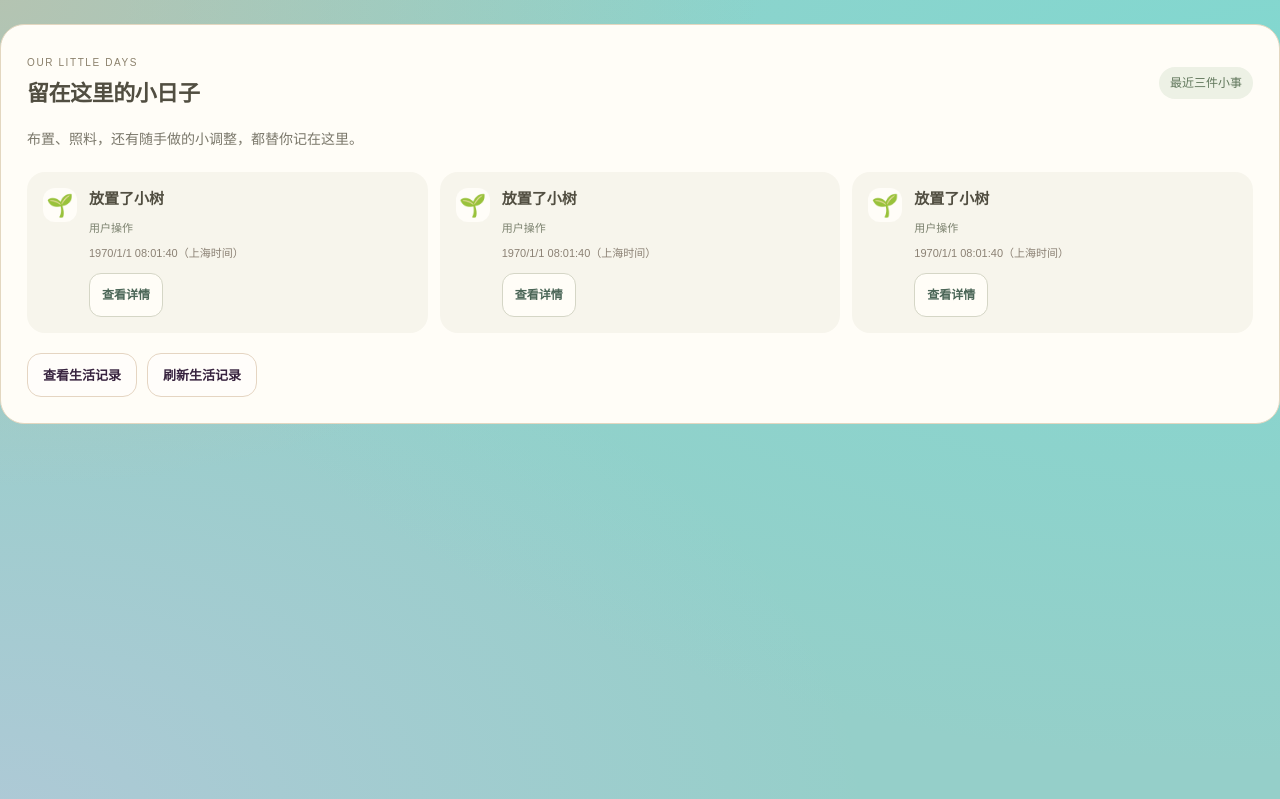
Test case: retains all loaded events and the cursor after a failed page, then retries once
Click the button "查看生活记录". click: (82, 376)
box: [27, 354, 137, 398]
(page scrolled)
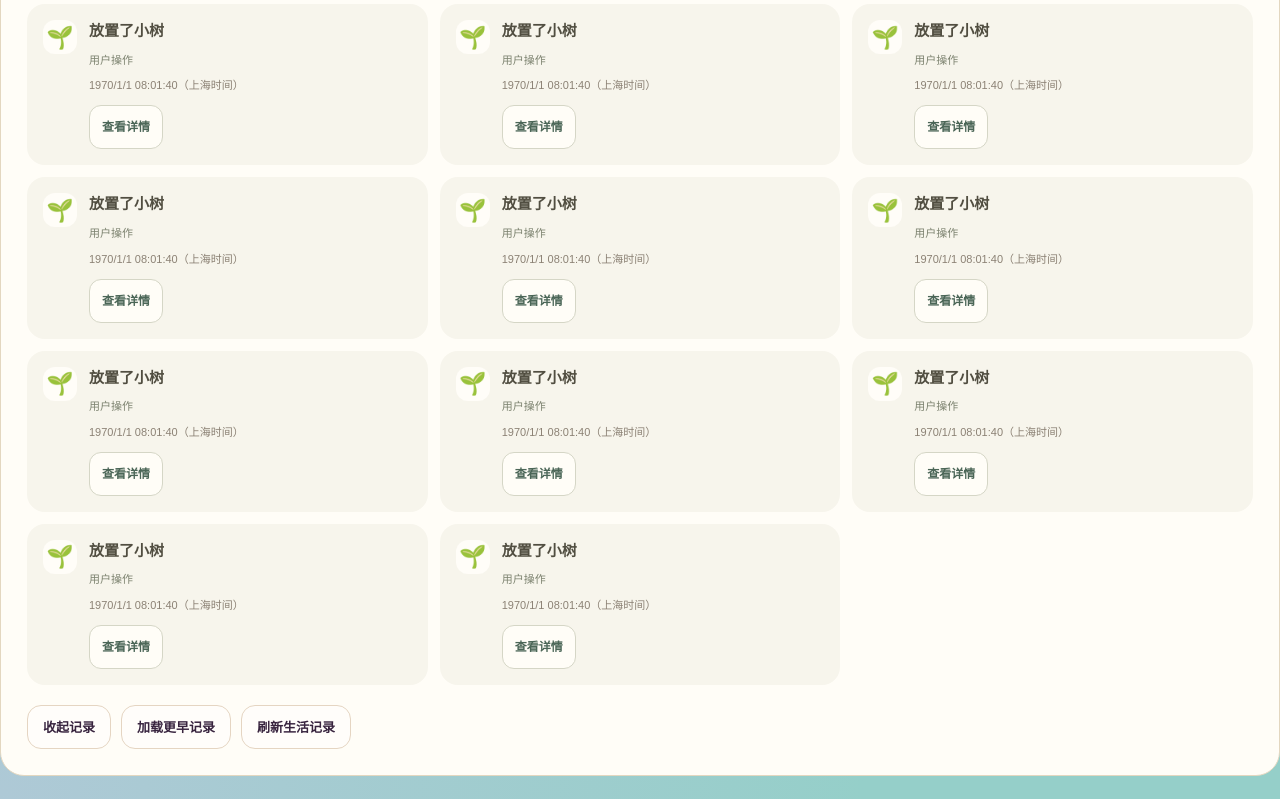
Click the button "加载更早记录". click: (176, 727)
box: [121, 705, 231, 749]
(page scrolled)
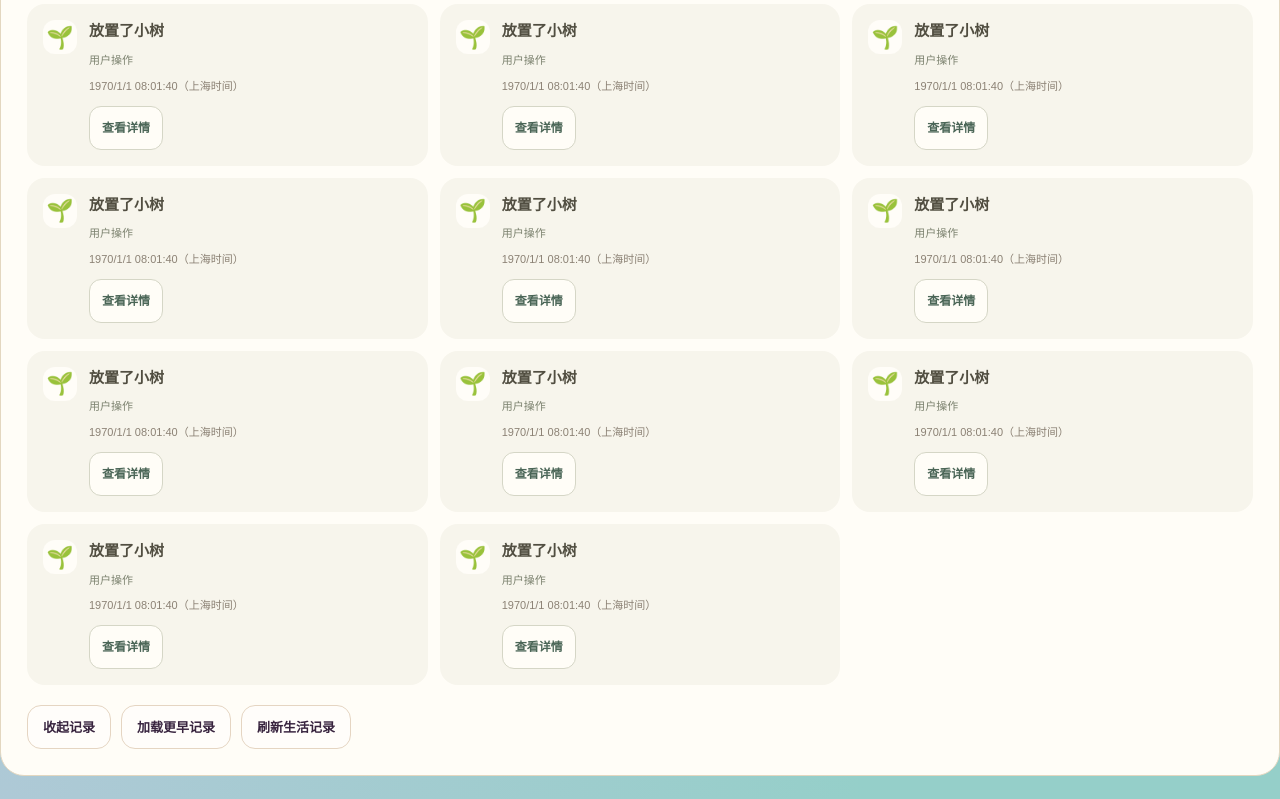
Click the button "加载更早记录". click: (176, 728)
box: [121, 706, 231, 750]
(page scrolled)
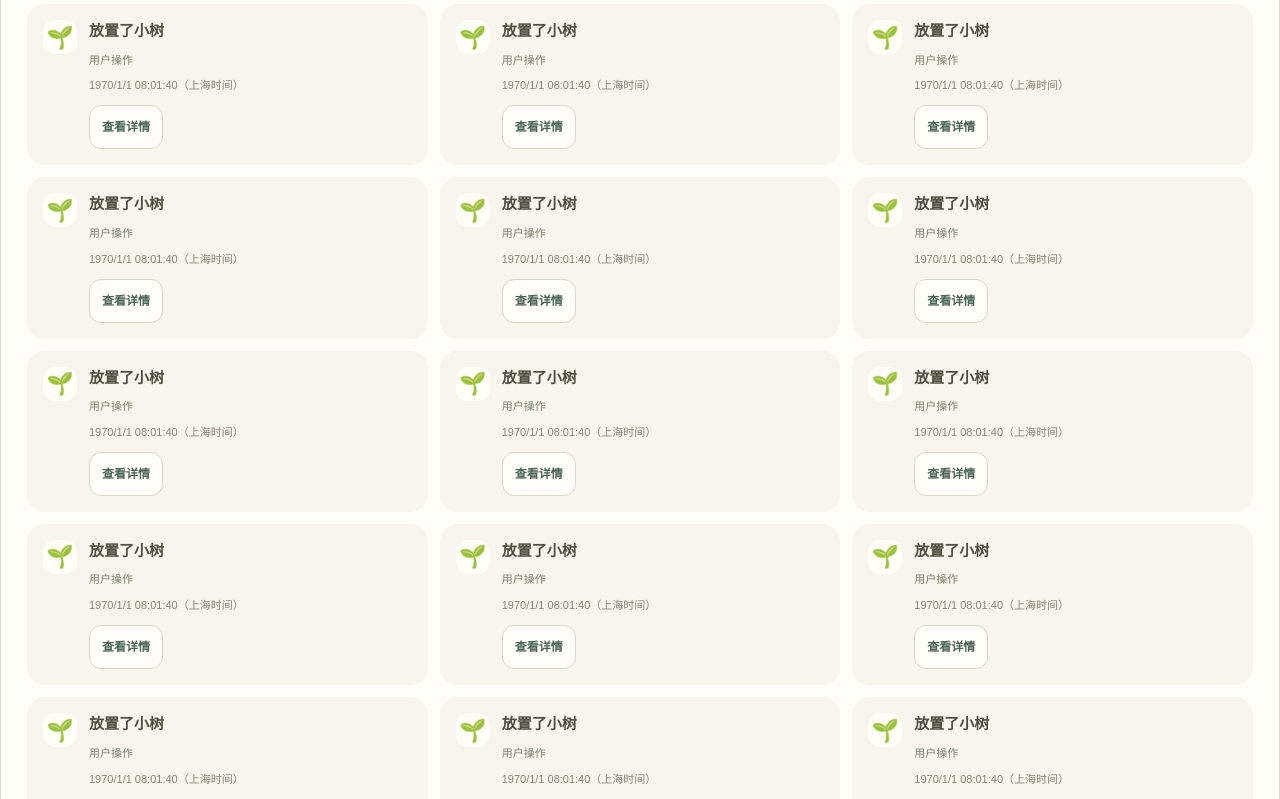
Expected: the button "加载更早记录" is gone
